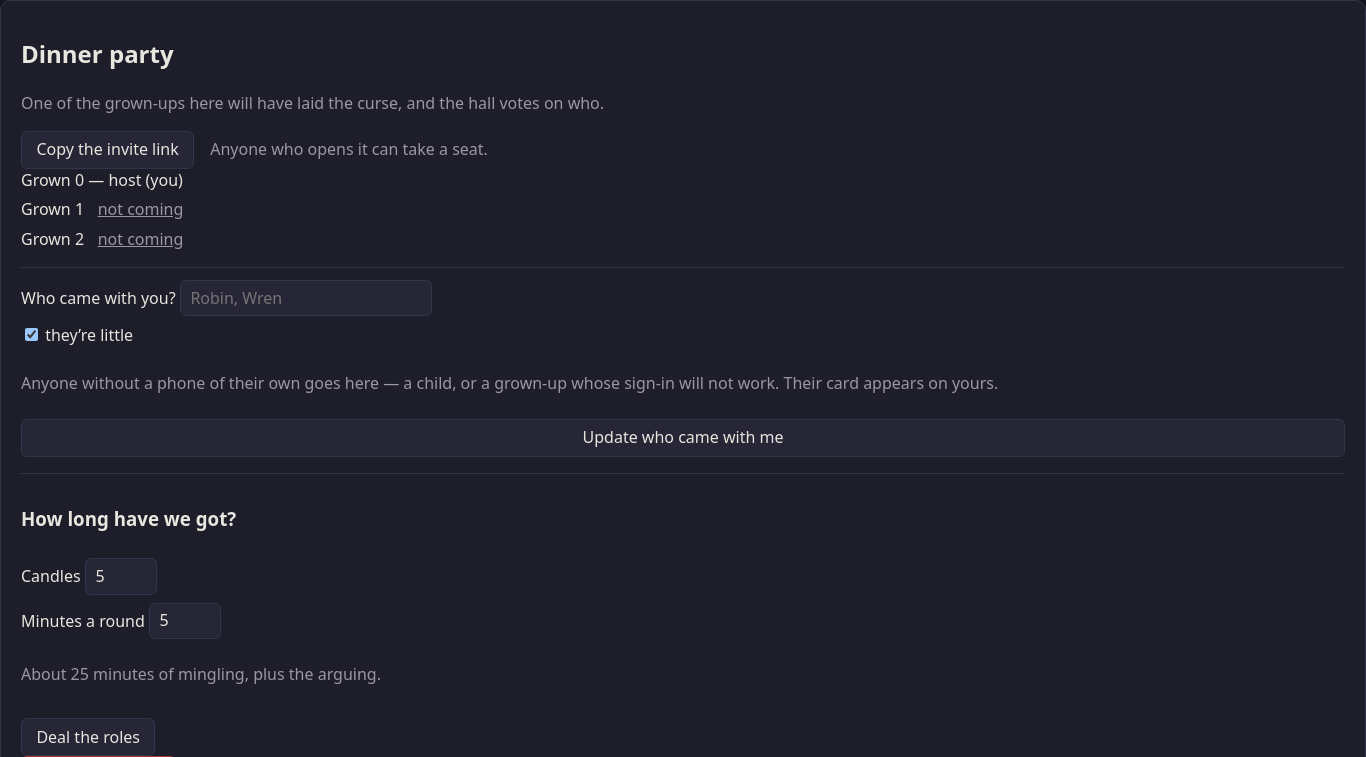
Test: the host dials › puts the dial back when the host blurs an empty box
Clear the number field labelled "Candles": (121, 577) [85,558,157,595]
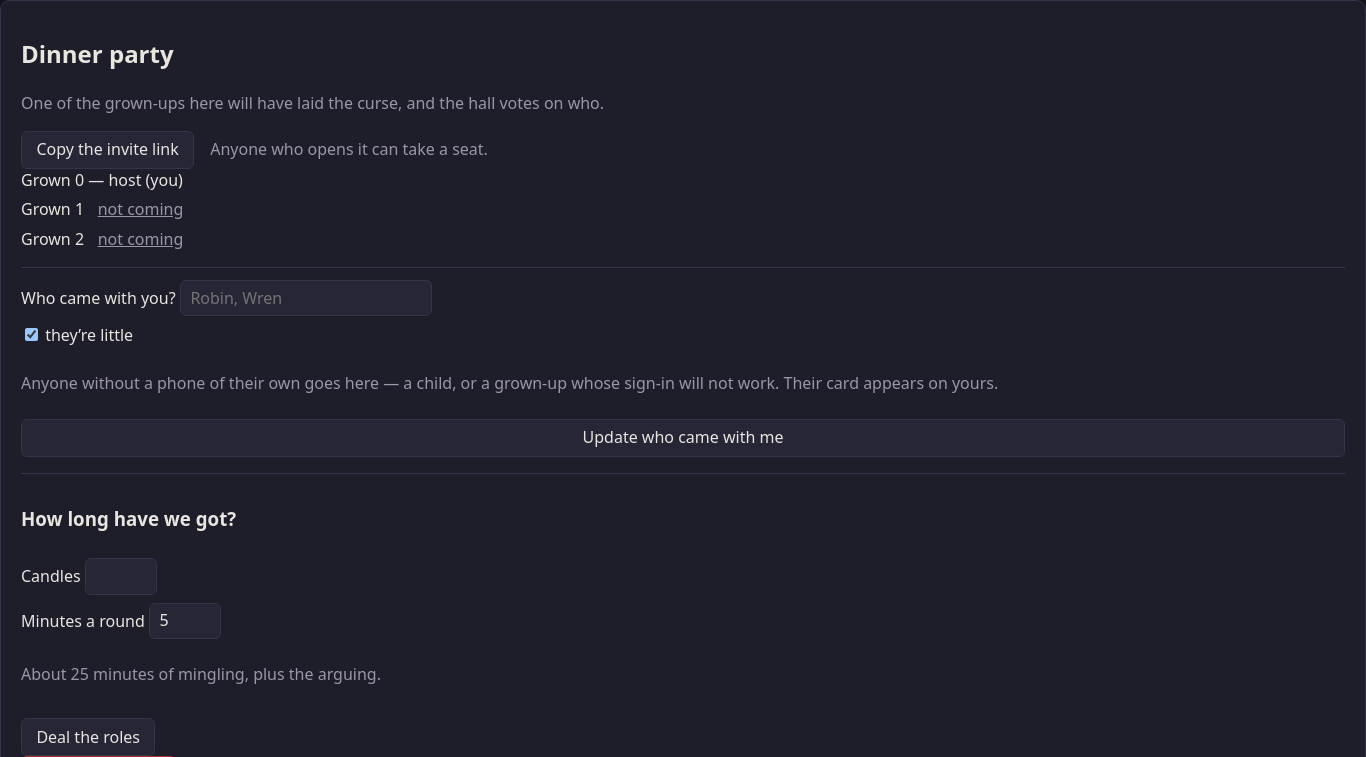
Leave the number field labelled "Candles", box [85,558,157,595]
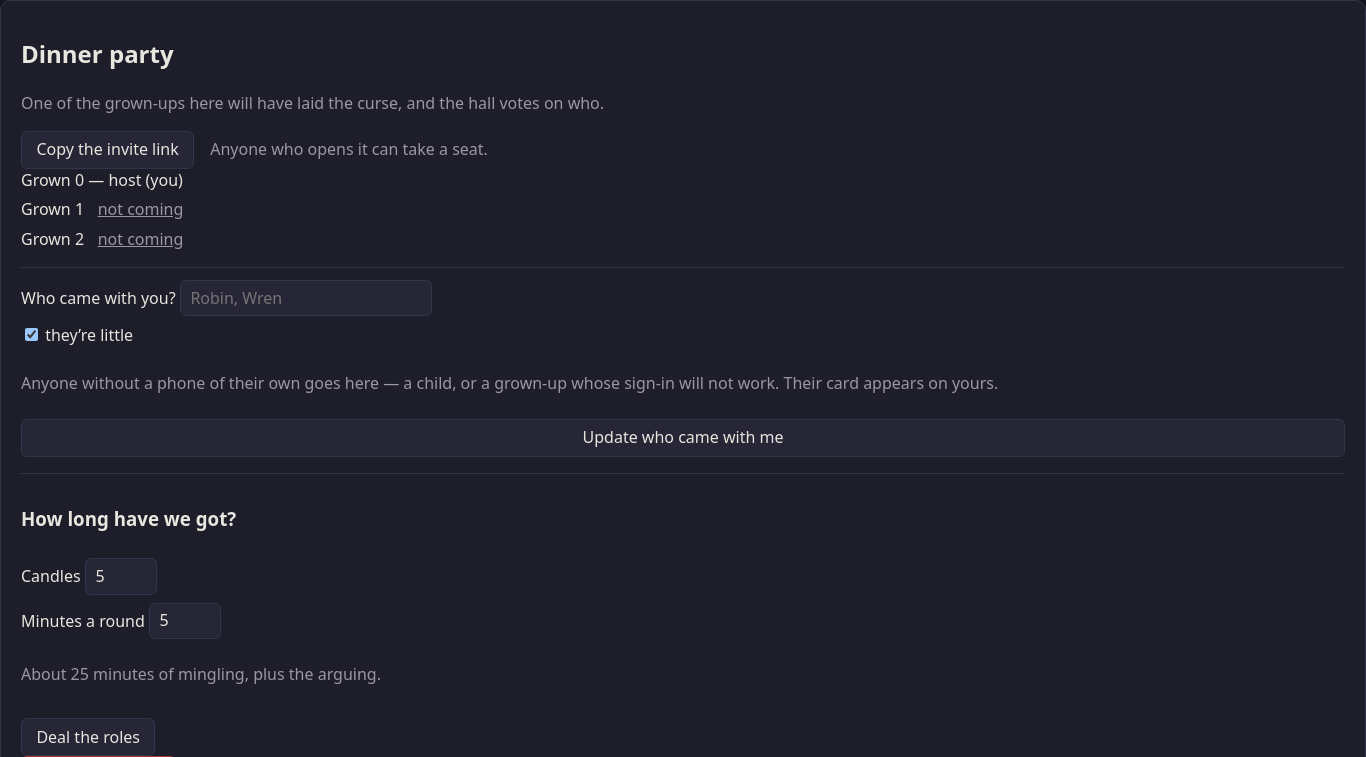
Expected: the number field labelled "Candles" holds "5", [85,558,157,595]
